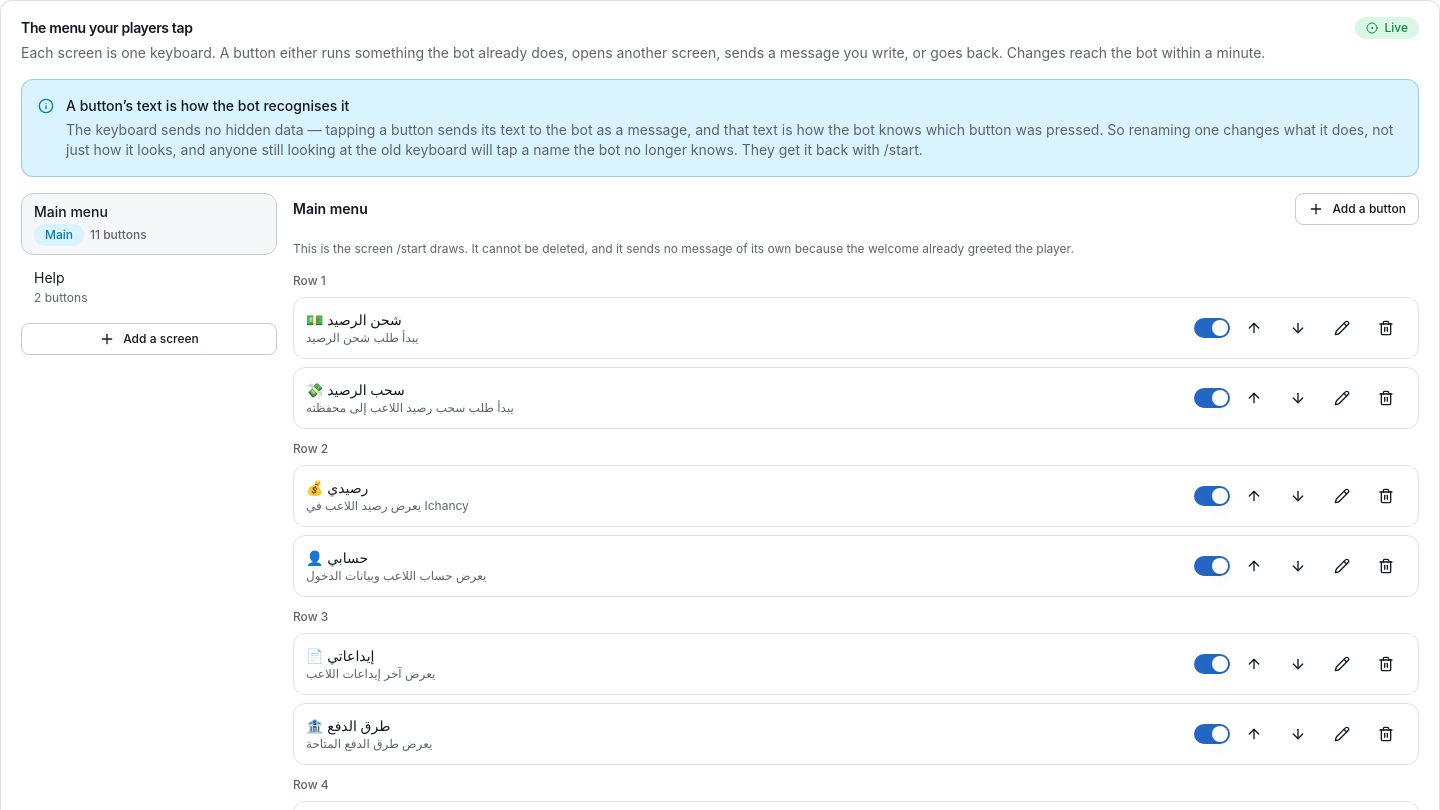
Test case: the screens and their keyboards › adds a screen and lands on it
Click the button "Add a screen" at x=149, y=339, box [21,323,277,355]
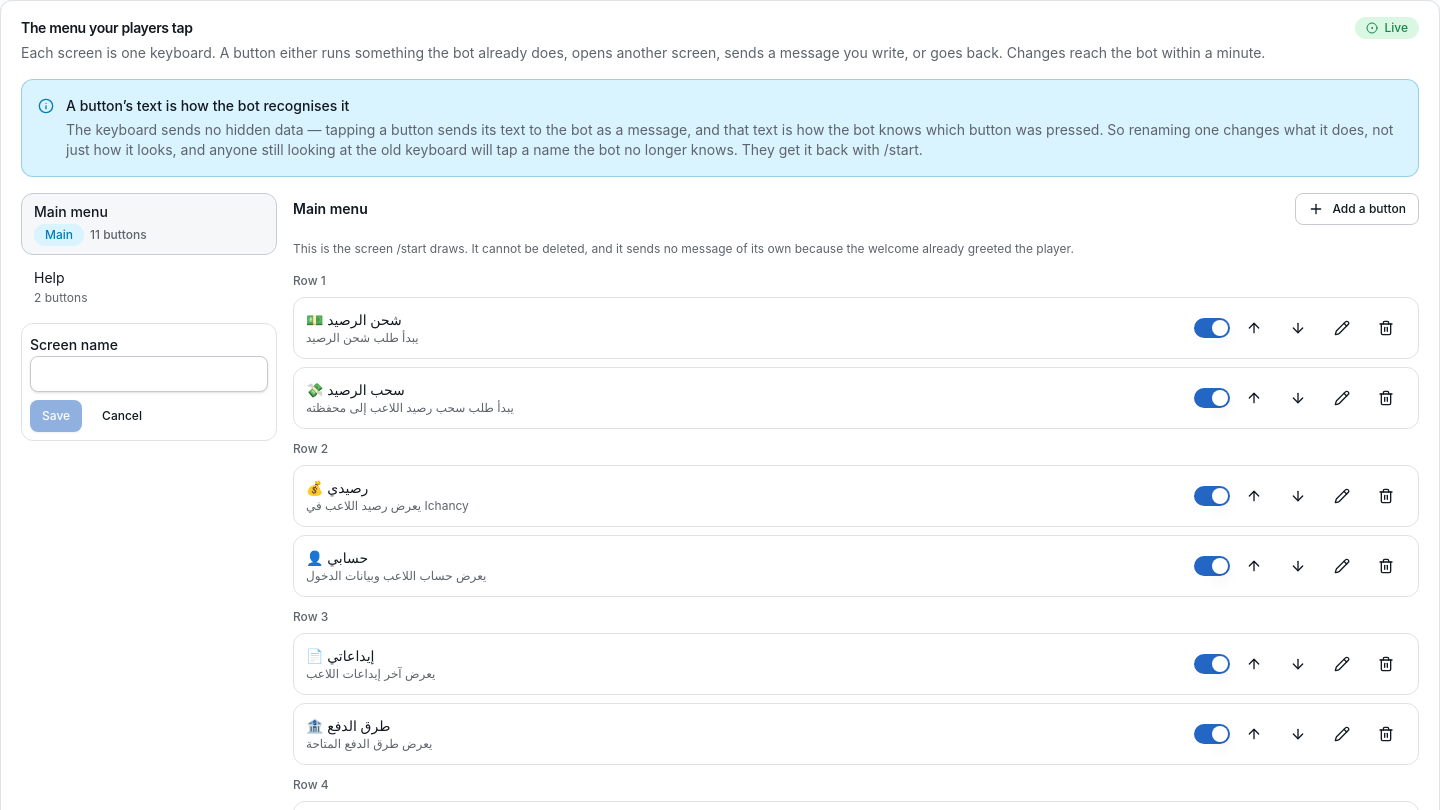
Expected: the button "Save" is disabled, [30,400,82,432]
Type "Promotions" into the field labelled "Screen name" at x=149, y=374, box [30,356,268,392]
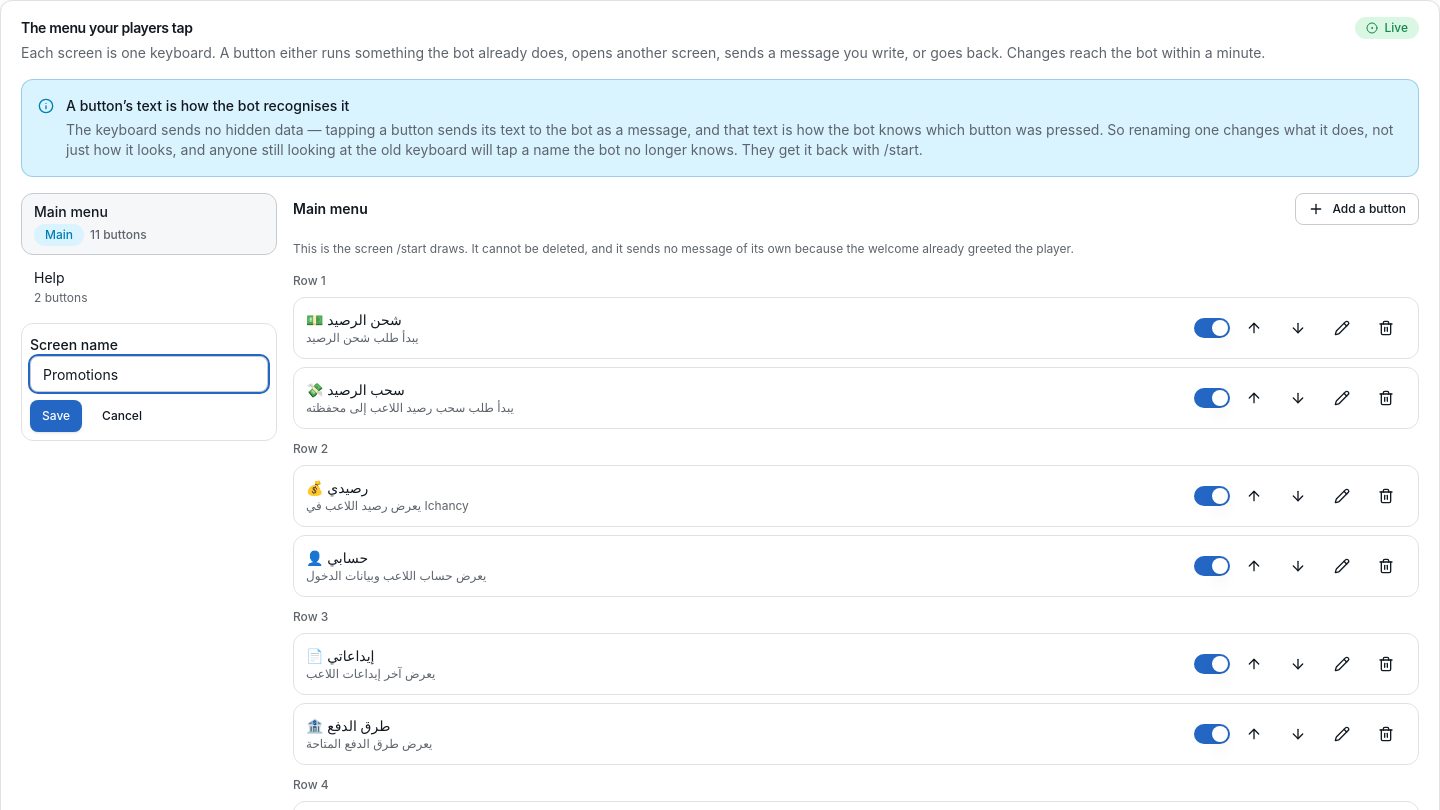
Click the button "Save" at x=56, y=416, box [30,400,82,432]
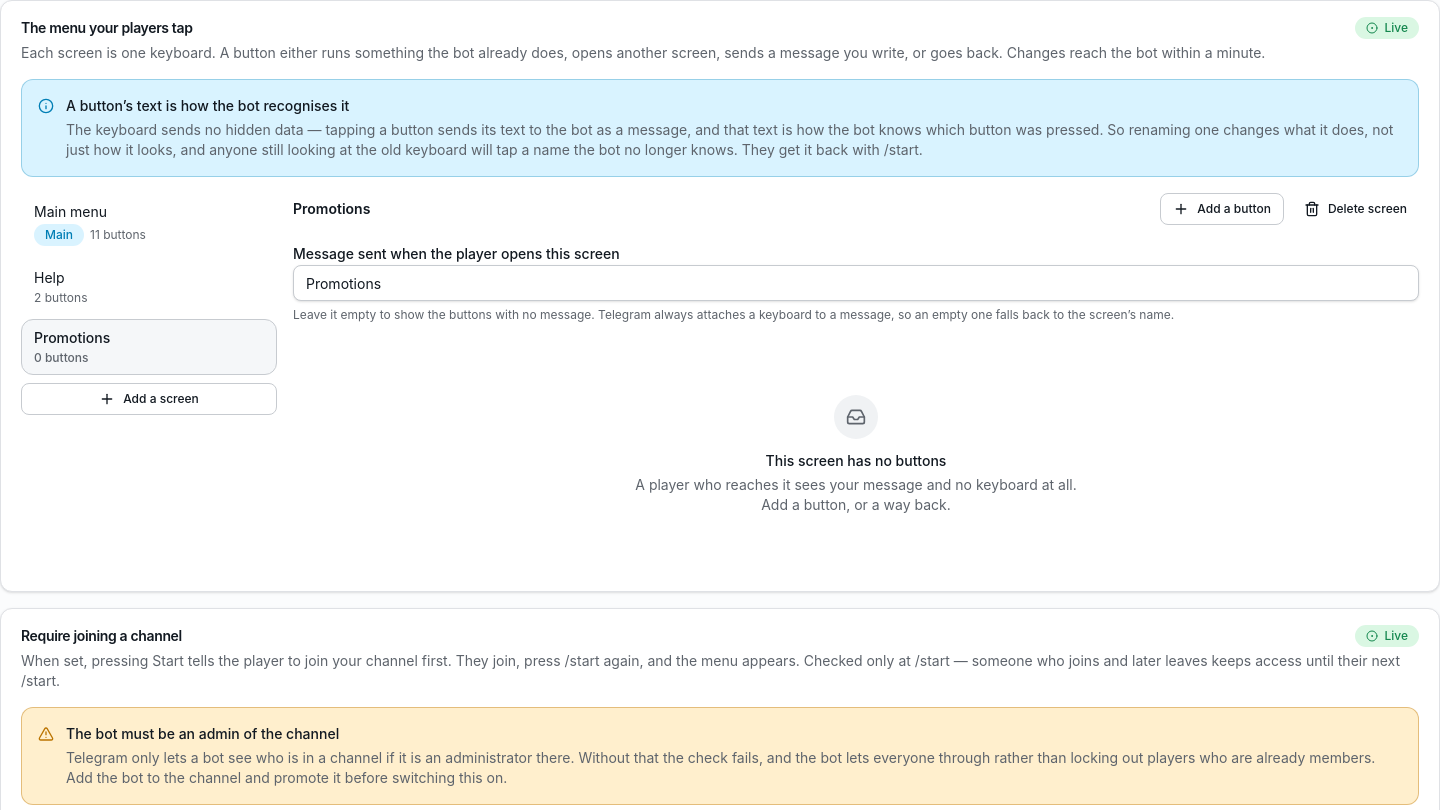
Expected: the text "This screen has no buttons" is shown, [766,452,946,469]
Note: And cancelling the form puts the button back without saving anything.
Click the button "Add a screen" at x=149, y=399, box [21,383,277,415]
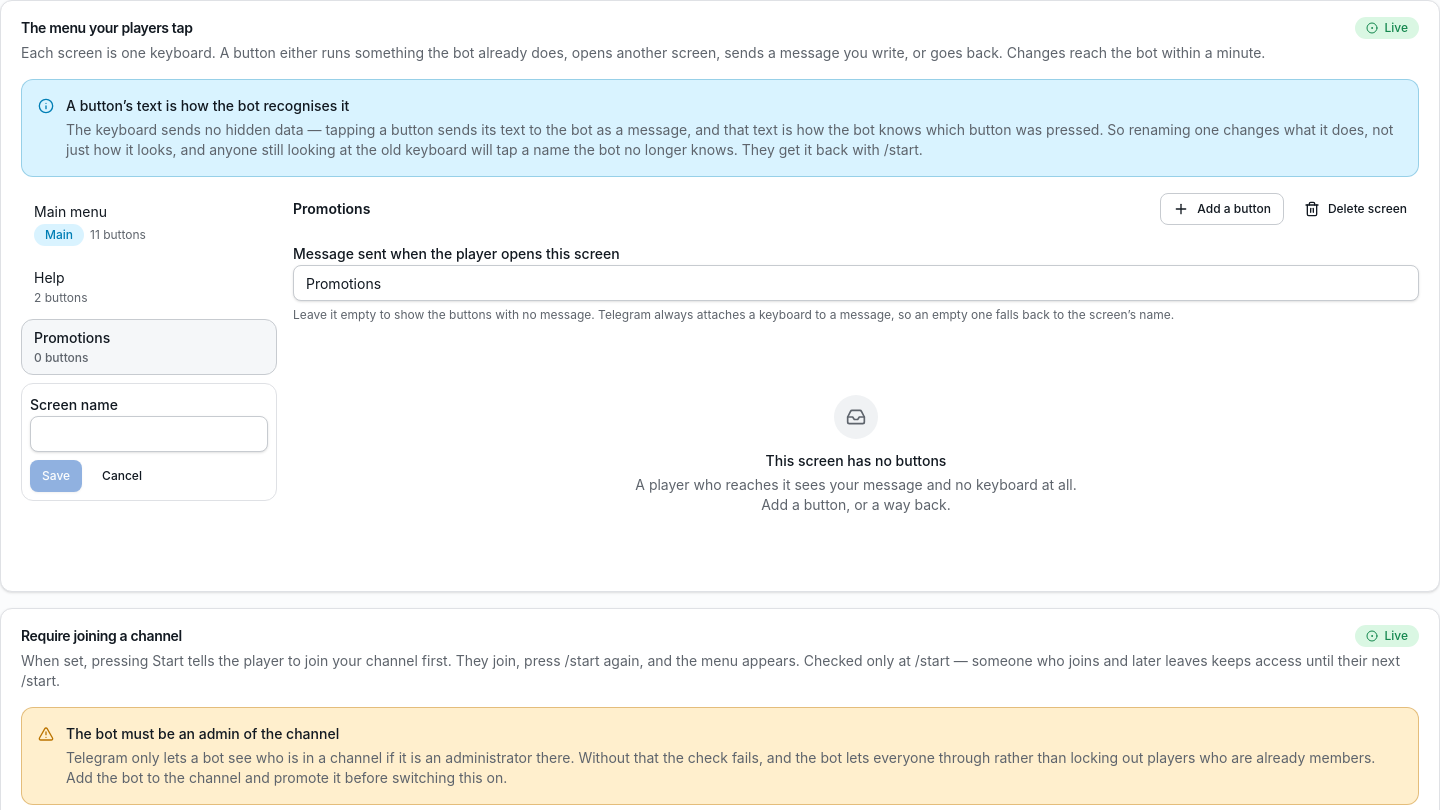
Click the button "Cancel" at x=122, y=476, box [90,460,154,492]
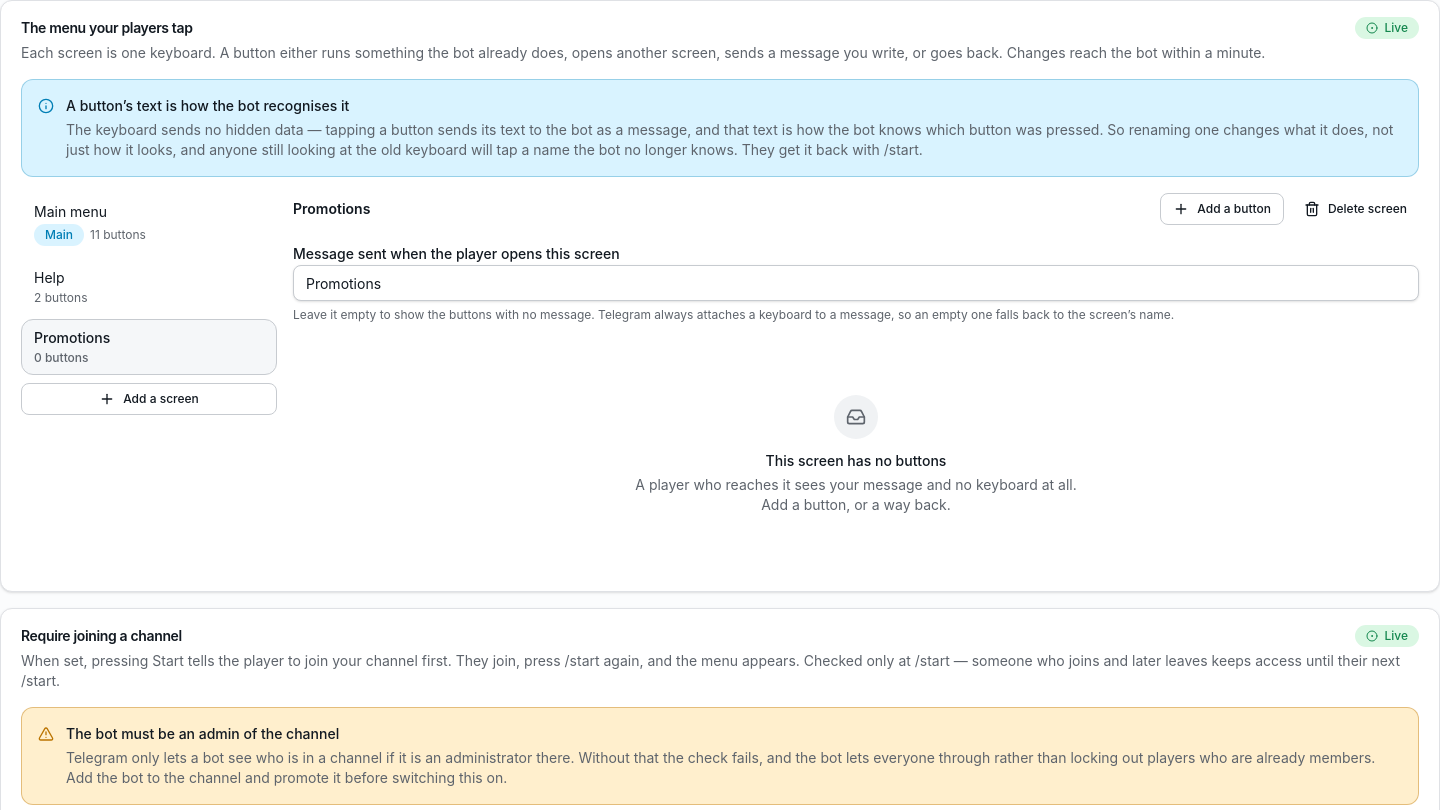
Expected: the button "Add a screen" is shown, [21,383,277,415]
